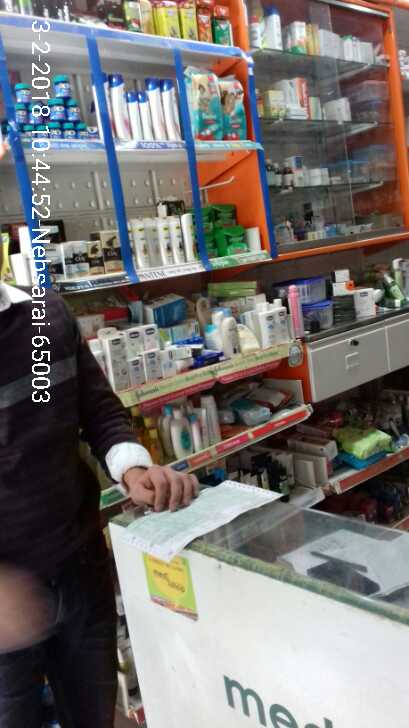vicks: (15, 72, 100, 146)
